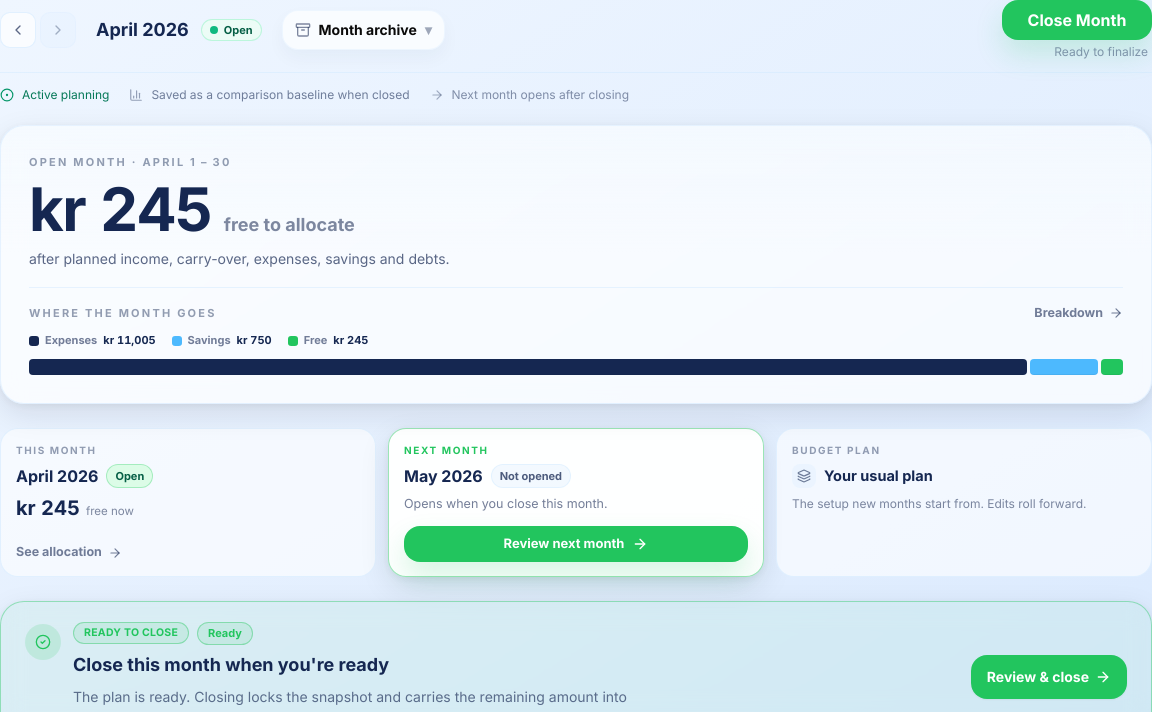
Scenario: DashboardContent › opens the same close month modal from the CloseBand review-and-close CTA
Click the button with test id "close-band-cta".
click(1049, 677)  # box [971, 655, 1127, 699]
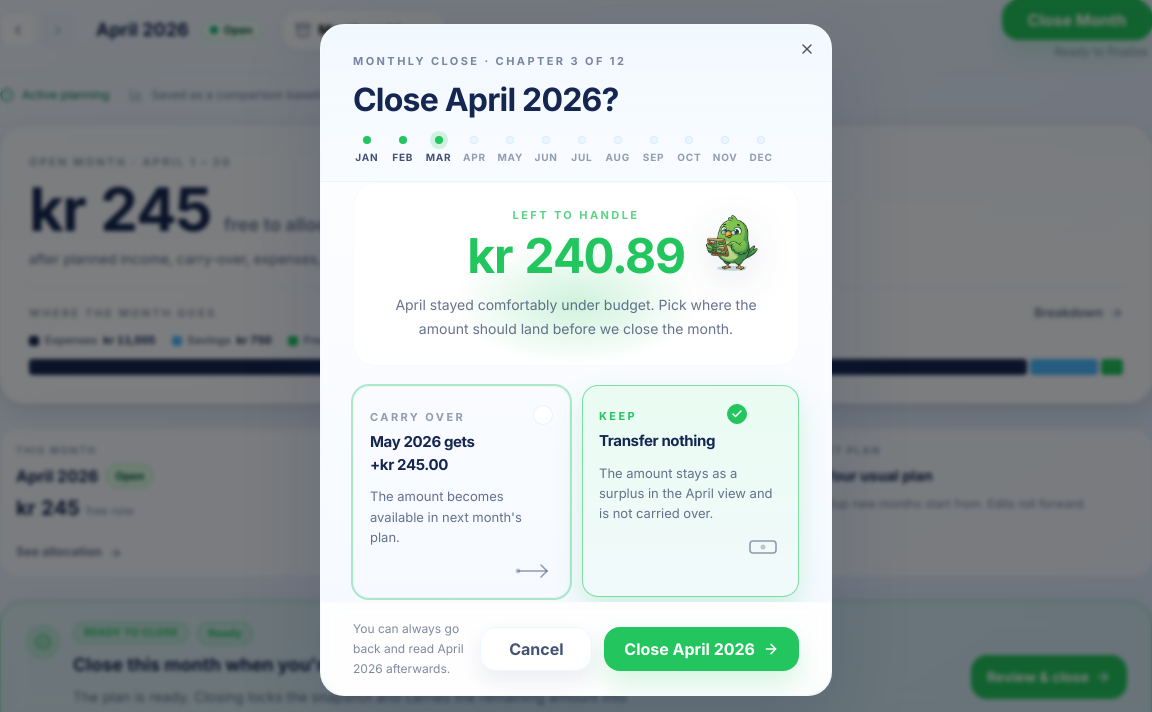
Result: the heading "Close April 2026?" is shown at [353, 80, 619, 118]
Result: the dialog with test id "close-month-modal" is shown at [320, 24, 832, 696]
